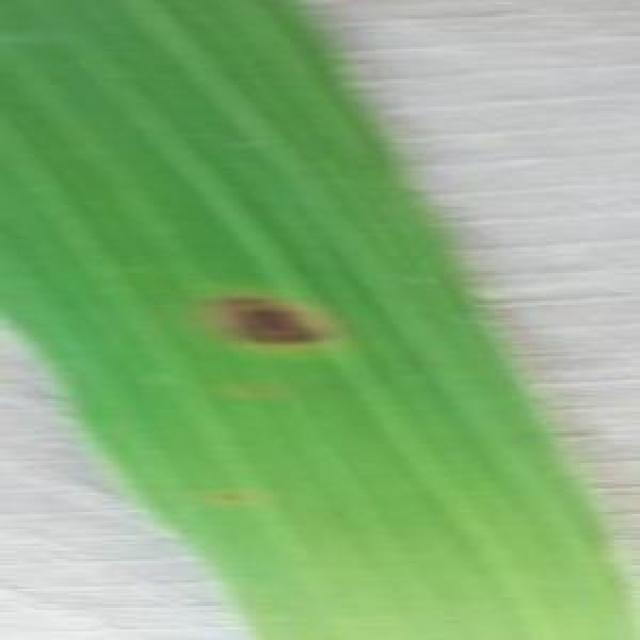Brown_Spot: (186, 293, 334, 347)
